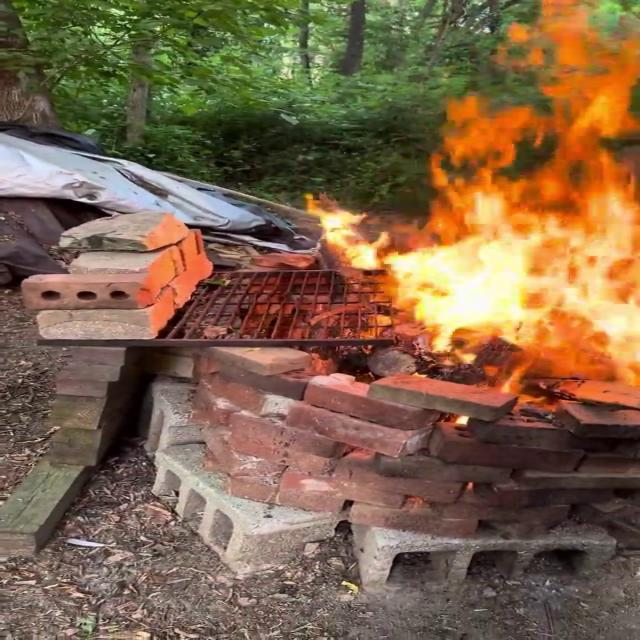Fire: (304, 2, 637, 360)
